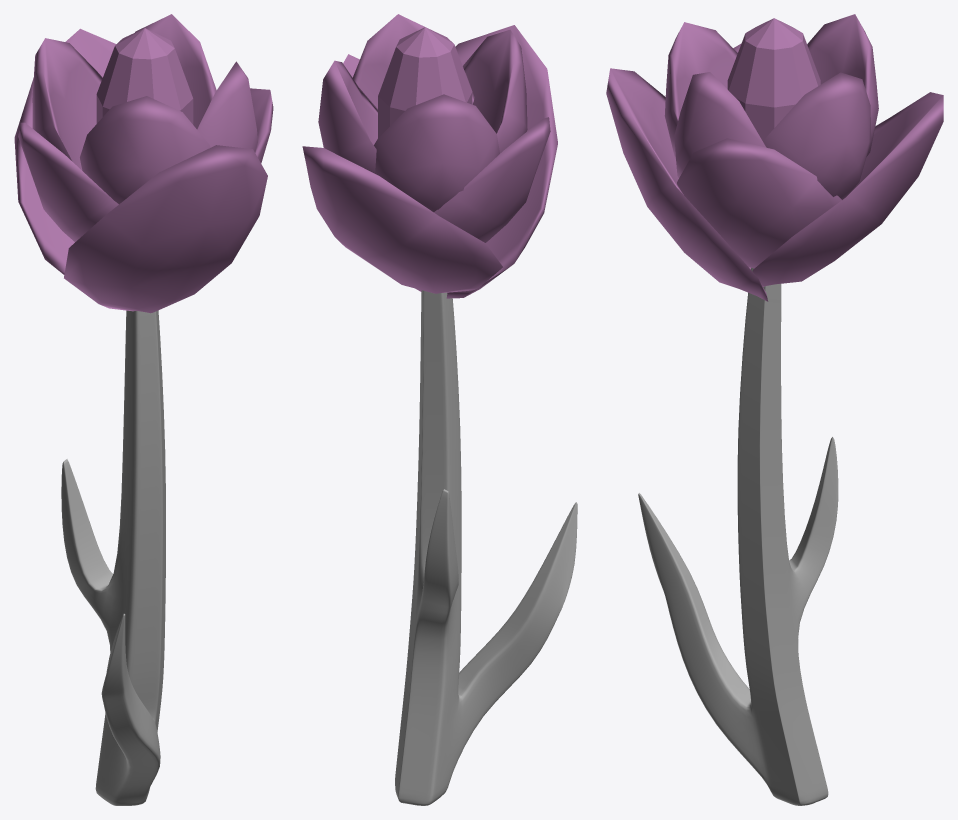
File: Rose.fbx
3 views of the same model, side by side, from view 1: azimuth 30°, elevation 25°; view 2: azimuth 150°, elevation 25°; view 3: azimuth 270°, elevation 25° (orthographic). The views are drawn at different scales.
Parts seen in each view (by area): view 1: pSphere4, pCylinder1; view 2: pSphere4, pCylinder1; view 3: pSphere4, pCylinder1.
Part boxes in pixels (x1,y1,x2,y2): pSphere4: [14, 14, 273, 313]; pCylinder1: [61, 310, 165, 805]; pSphere4: [302, 14, 557, 298]; pCylinder1: [395, 290, 577, 805]; pSphere4: [606, 14, 943, 301]; pCylinder1: [638, 268, 838, 805].
Size of the model in its own units: 2.99 by 9.75 by 3.81.
